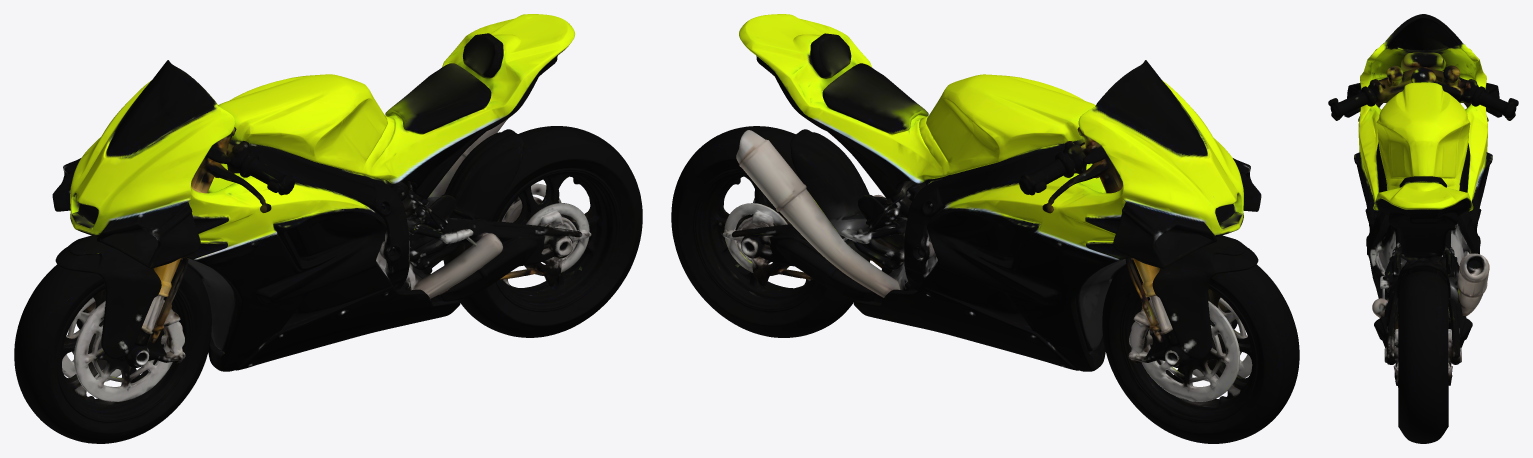
Rendered from bike-ai.glb.
3 renders of one model, left to right at view 1: azimuth 30°, elevation 25°; view 2: azimuth 150°, elevation 25°; view 3: azimuth 270°, elevation 25°, orthographic. The views are drawn at different scales.
Visible parts, largest first — view 1: material; view 2: material; view 3: material.
Boxes of the visible parts, x1,y1,x2,y2 form: material: (14, 14, 642, 443); material: (671, 14, 1299, 443); material: (1328, 14, 1518, 443).
Bounding box in the file's own units: 1.9 × 1.06 × 0.6506.
Materials: 1 (1 with a texture image).
